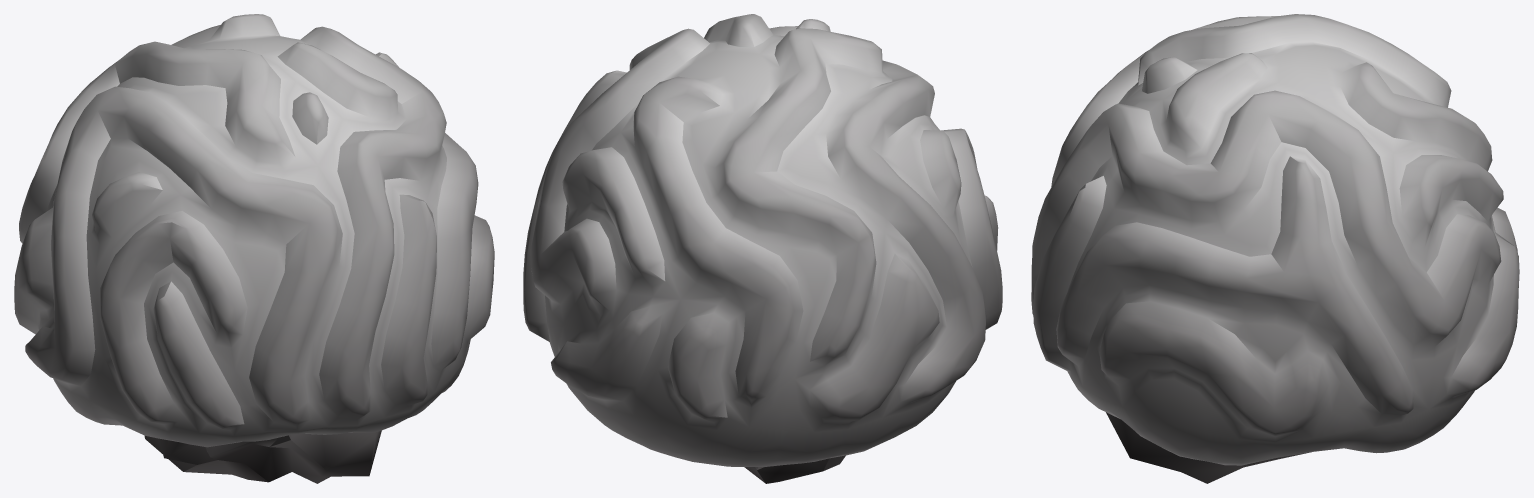
The model's file is diploria-labyrinthiformis.glb.
3 views of the same model, side by side, from view 1: azimuth 30°, elevation 25°; view 2: azimuth 150°, elevation 25°; view 3: azimuth 270°, elevation 25° (orthographic). The views are drawn at different scales.
Visible parts, largest first — view 1: diploria-labyrinthiformis; view 2: diploria-labyrinthiformis; view 3: diploria-labyrinthiformis.
Boxes of the visible parts, x1,y1,x2,y2 form: diploria-labyrinthiformis: (14,14,494,483); diploria-labyrinthiformis: (523,14,1002,483); diploria-labyrinthiformis: (1031,14,1519,483).
Bounding box in the file's own units: 0.1013 × 0.0998 × 0.1017.
1 material, 1 textured.
